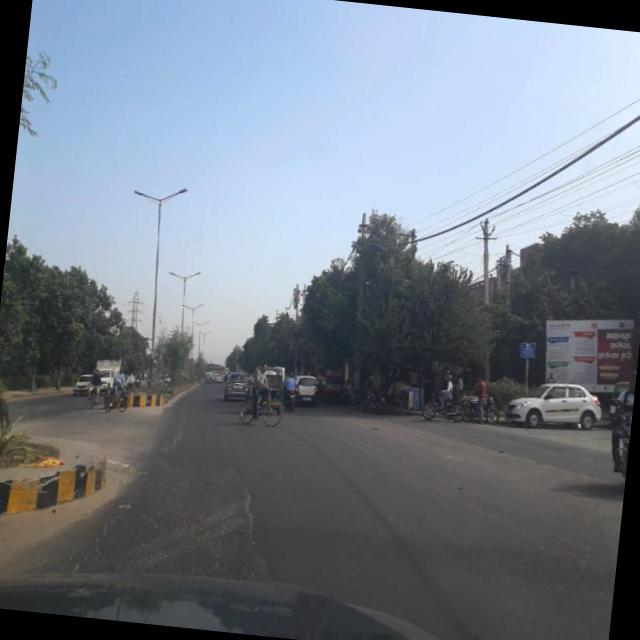crack: (222, 453, 272, 570), (76, 482, 140, 573)
